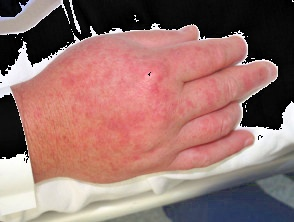SJS-TEN: (2, 17, 278, 184)
